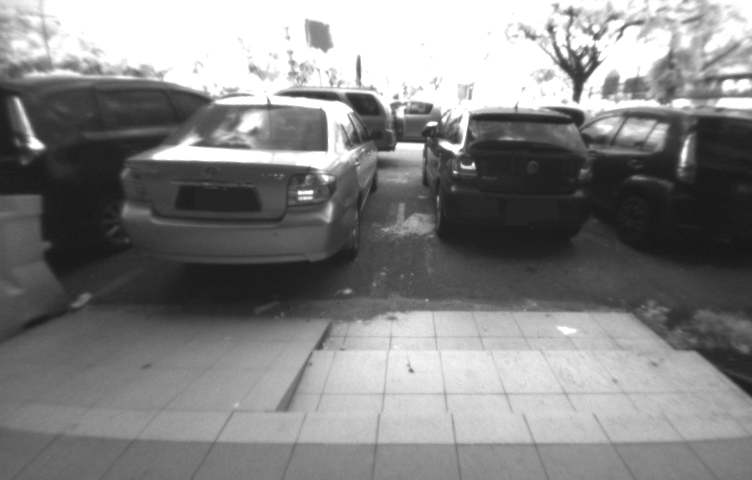down_steps: (284, 302, 744, 428)
mixed_gradient: (231, 305, 374, 433)
